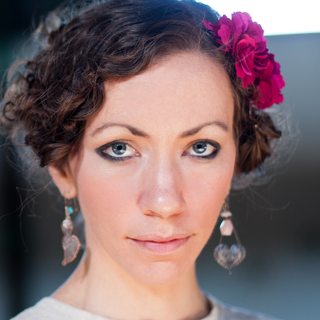eye: (87, 134, 145, 167), (175, 134, 225, 167)
